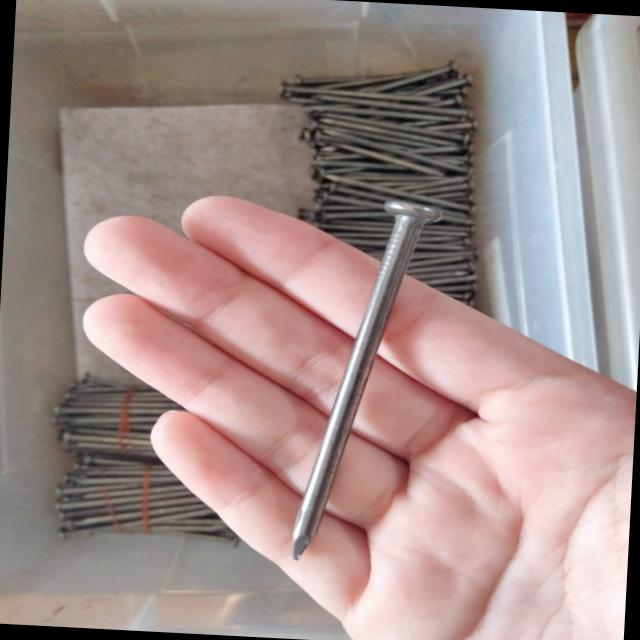3x8 nail: (234, 182, 460, 584)
